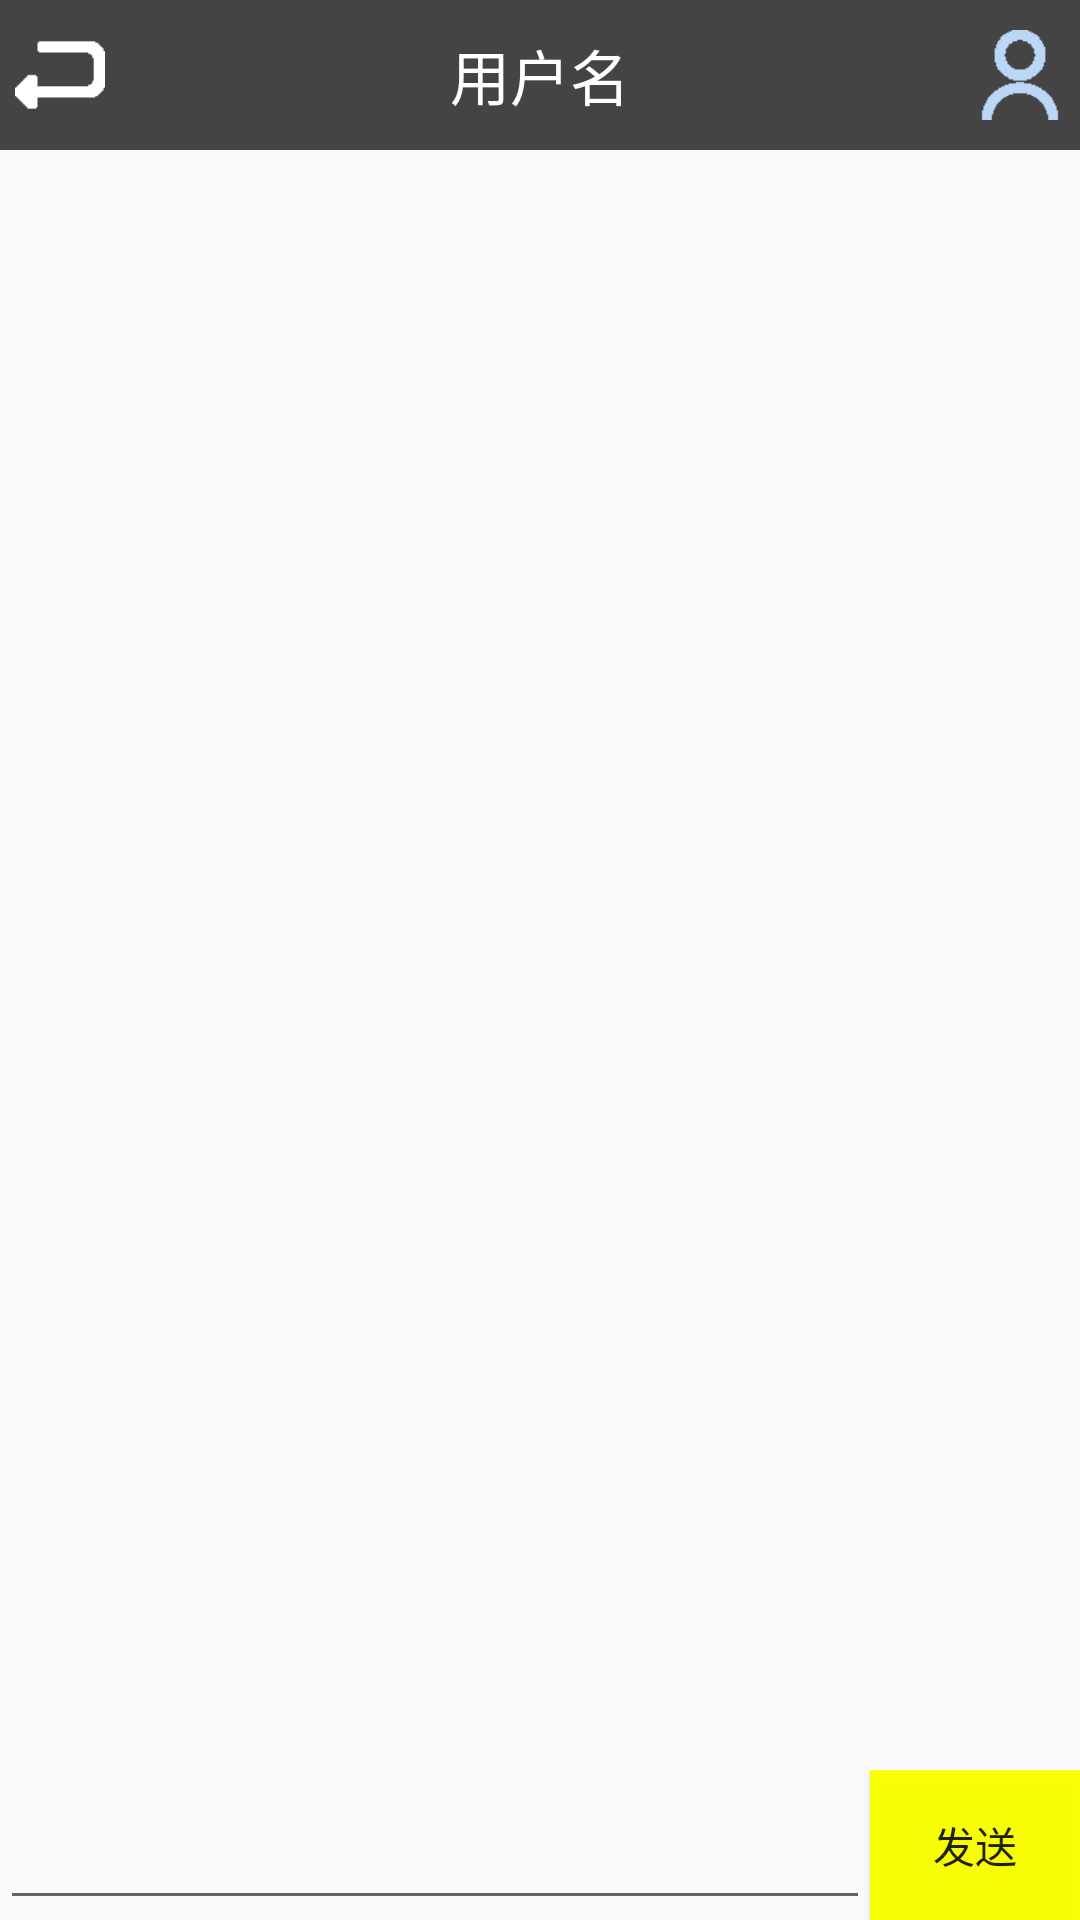

Icon click points for this 1080×1920 phone screenshot, format (x,y):
back: (60,75)
user id: (1020,75)
